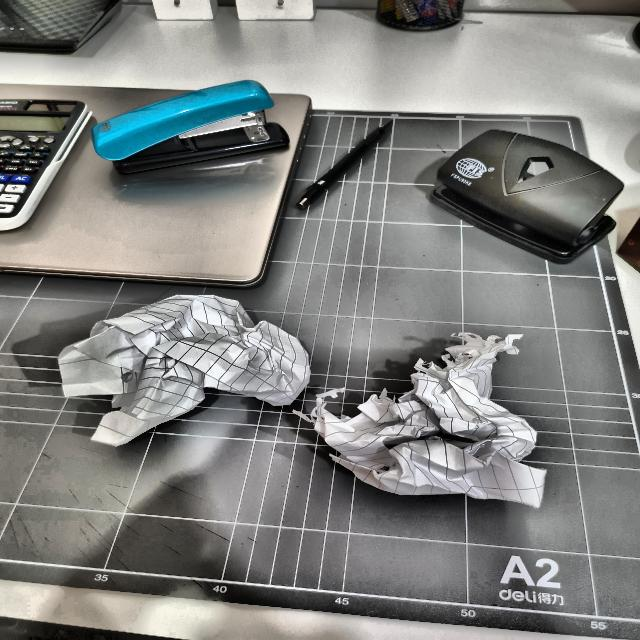Paper: (320, 337, 557, 502), (55, 294, 312, 445)
